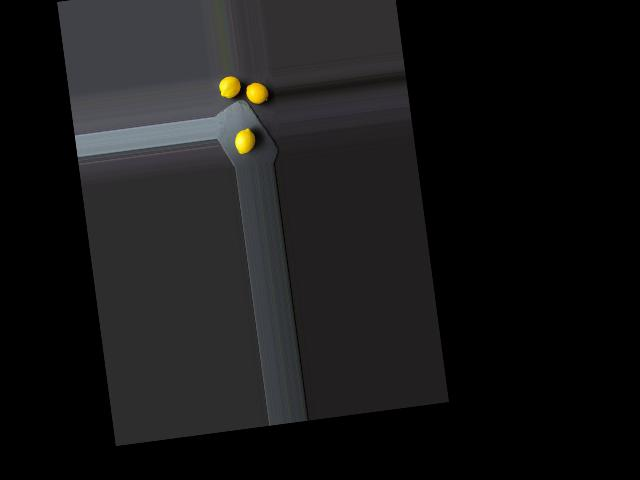lemon: (216, 73, 243, 101)
